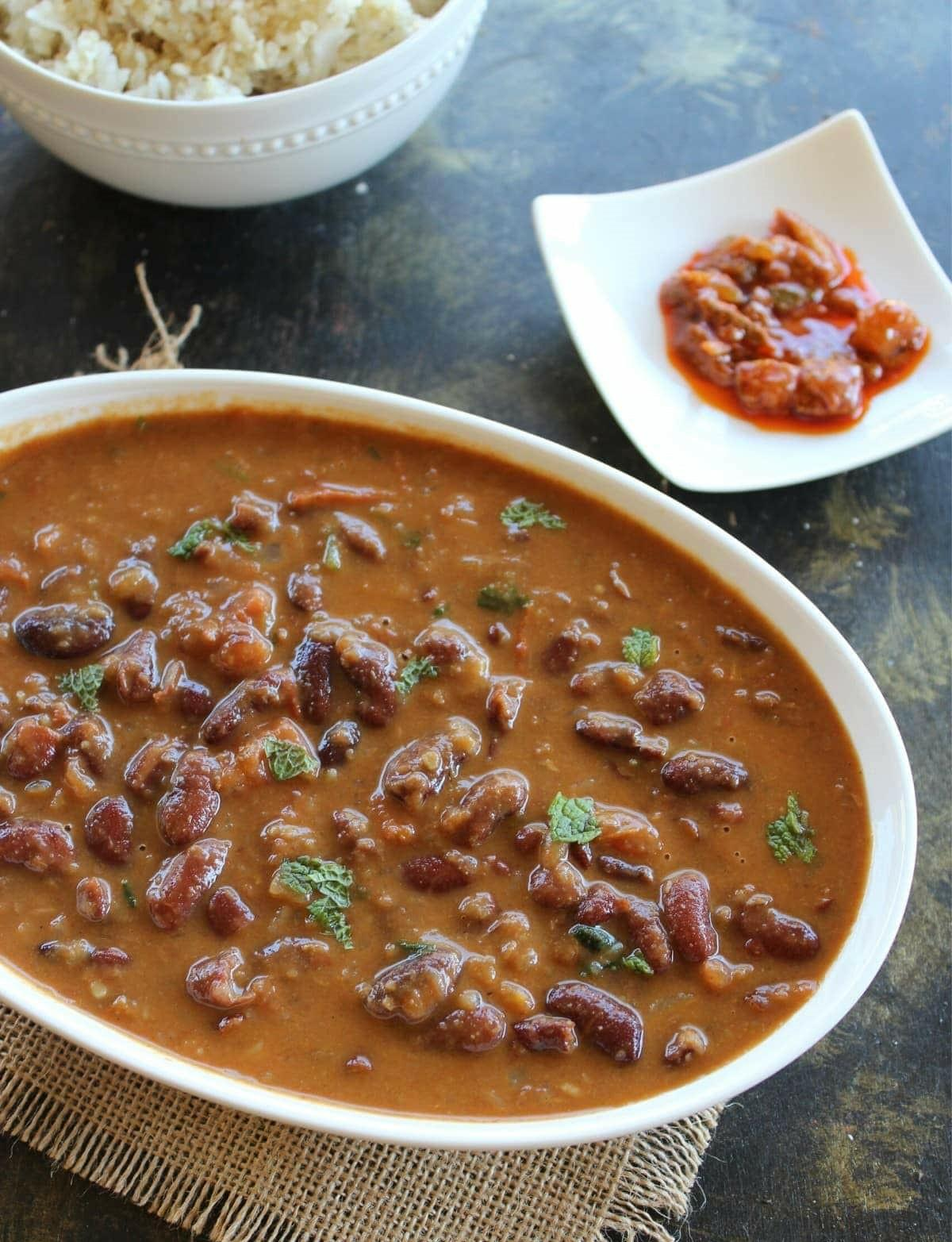RajmaCurry: (0, 403, 869, 1109)
WhiteRice: (0, 0, 454, 101)
